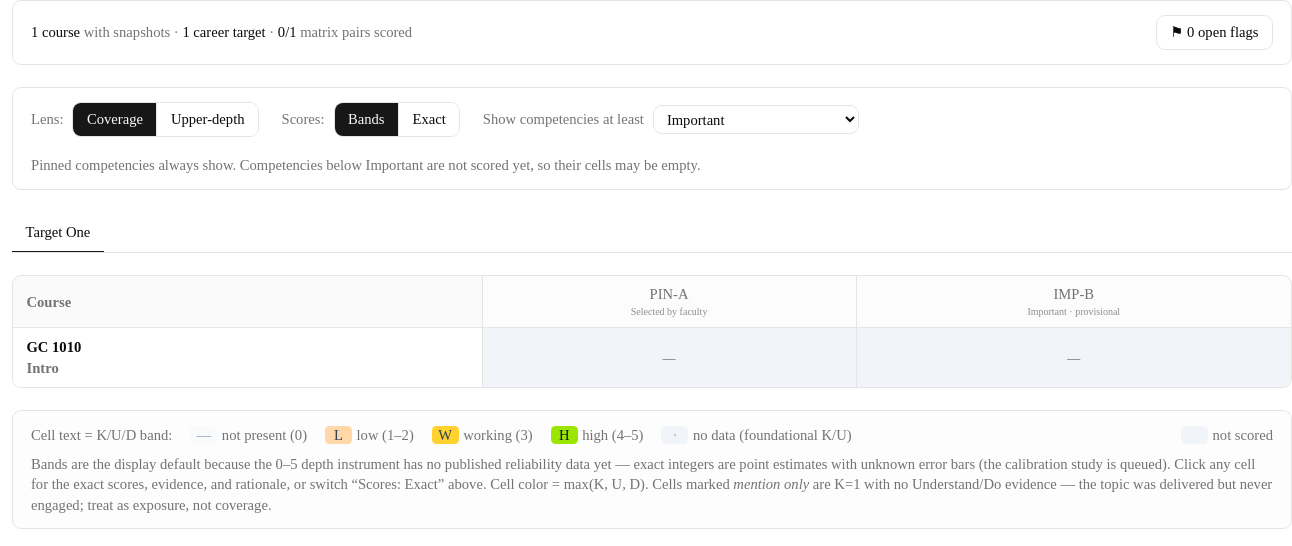
Test: ProgramCoverageClient — importance filter › starts at Important; lowering shows the 0.25–0.49 column; raising keeps only pins and very important
The width and height of the screenshot is (1292, 546).
Expected: the text "PIN-A" is shown, [650,286,689,302]
Expected: the text "IMP-B" is shown, [1054,286,1094,302]
Step 1. Select "Somewhat important" in the dropdown → (756, 120), box [653,105,859,134]
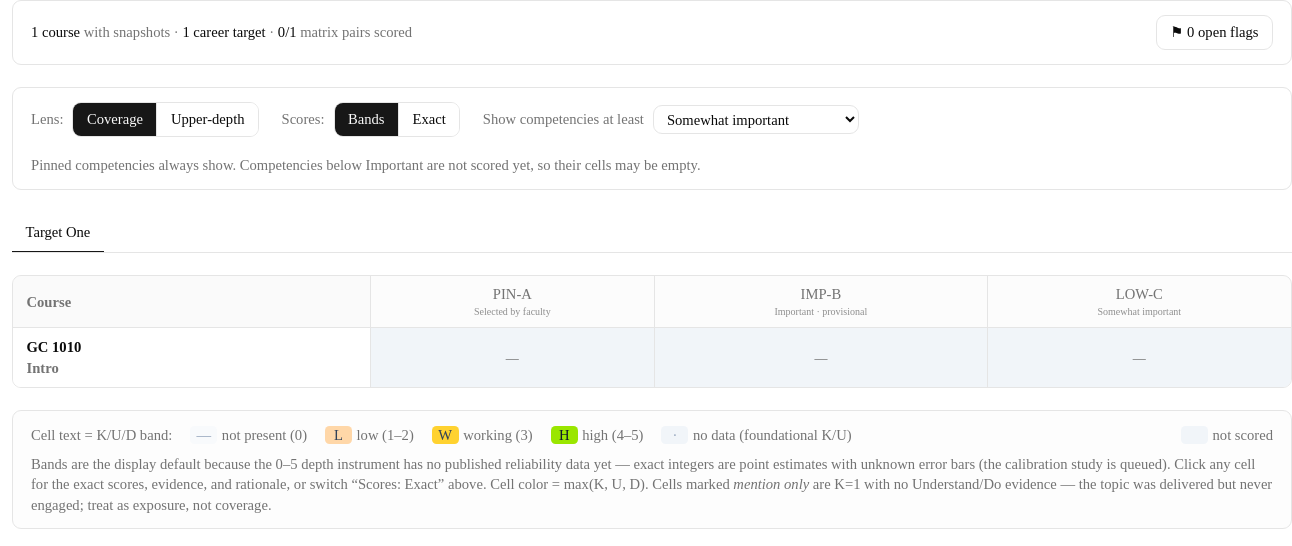
Now the text "LOW-C" is shown, box [1116,286,1163,302]
Now the text "Somewhat important" is shown 2 times
Step 2. Select "Very or extremely important" in the dropdown → (756, 120), box [653,105,859,134]
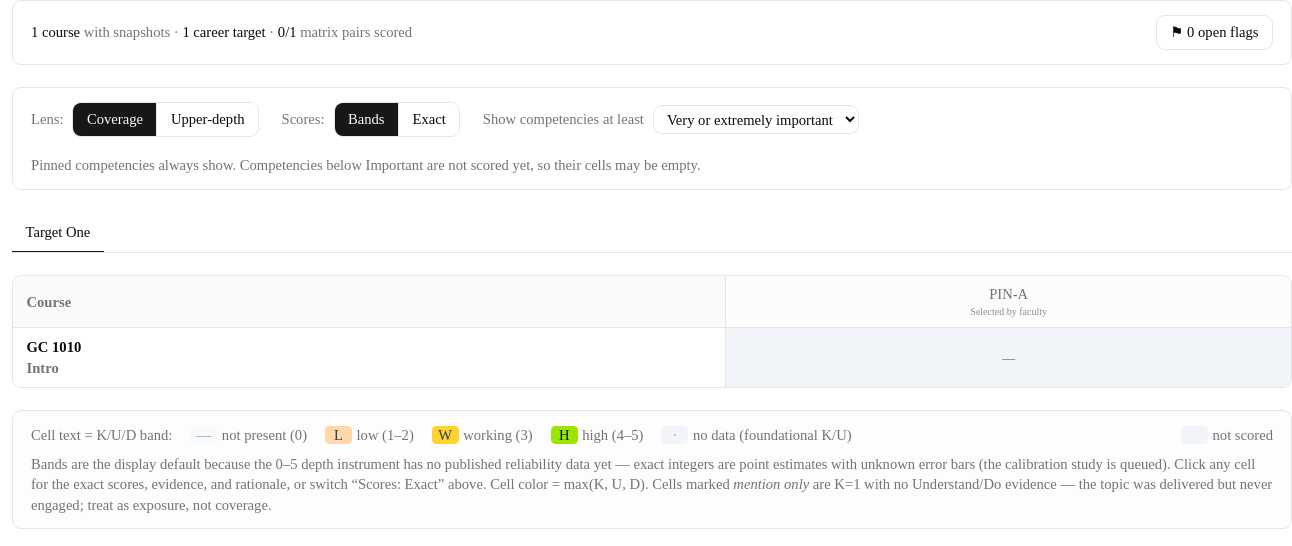
Expected: the text "PIN-A" is shown, [989,286,1028,302]
Now the text "IMP-B" is gone
Now the text "LOW-C" is gone
